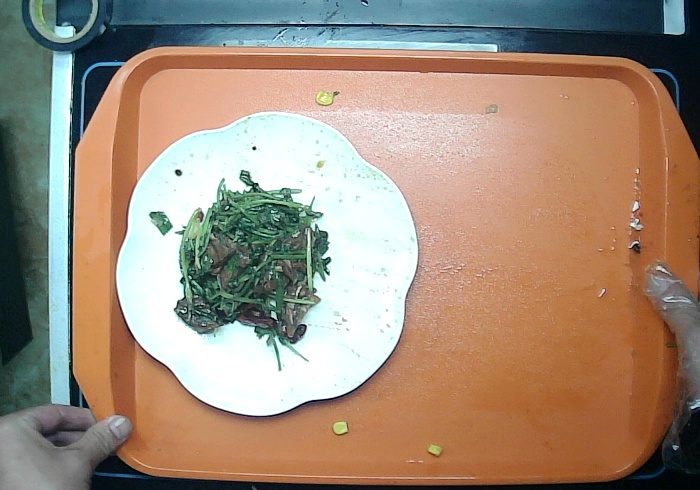HZYJPL-Bai_Se_Hua_Duo_Wan: (110, 108, 419, 418)
